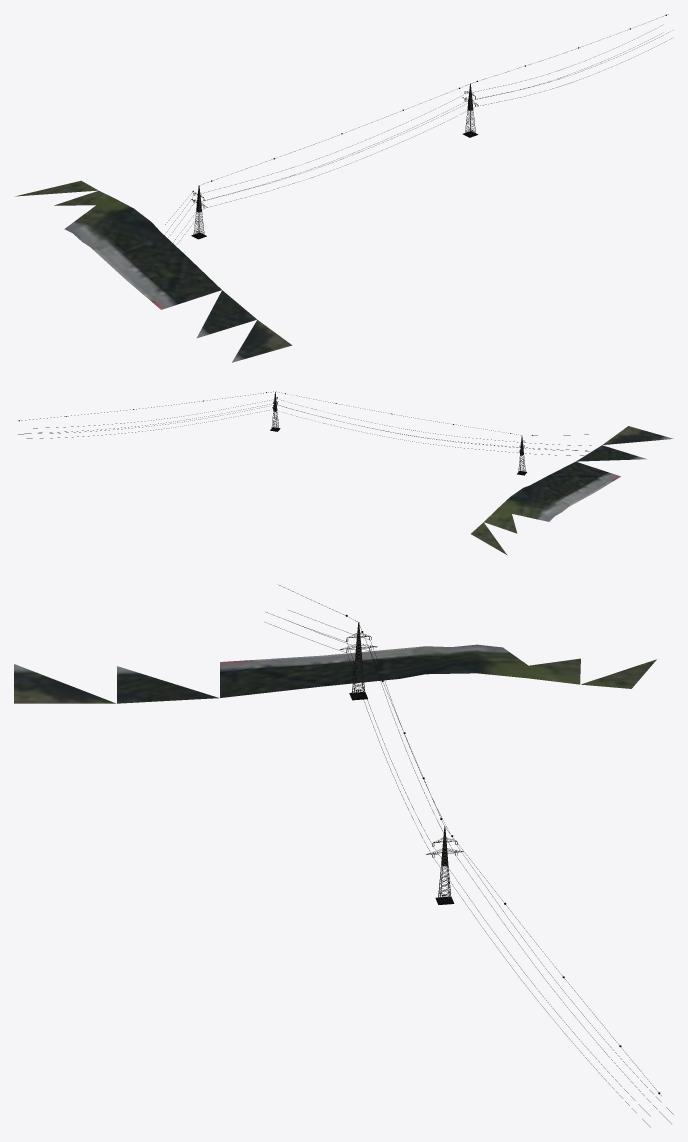
3 renders of one model, top to bottom at view 1: azimuth 30°, elevation 25°; view 2: azimuth 150°, elevation 25°; view 3: azimuth 270°, elevation 25°, orthographic. The views are drawn at different scales.
Parts seen in each view (by area): view 1: tile_t13; view 2: tile_t13; view 3: tile_t13.
Part boxes in pixels (x1,y1,x2,y2): tile_t13: (14, 14, 673, 362); tile_t13: (18, 391, 673, 554); tile_t13: (14, 585, 673, 1127).
Bounding box in the file's own units: 692 × 78.67 × 410.
Materials: 2 (2 with a texture image).
